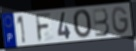1: (17, 14, 27, 44)
4: (57, 11, 72, 41)
B: (92, 7, 111, 38)
F: (35, 12, 53, 44)
G: (111, 6, 130, 36)
O: (72, 9, 92, 40)
